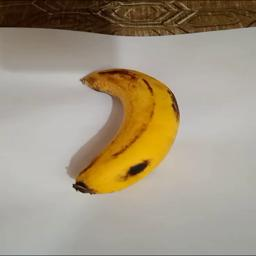Banana Semifresh: (69, 68, 180, 203)
